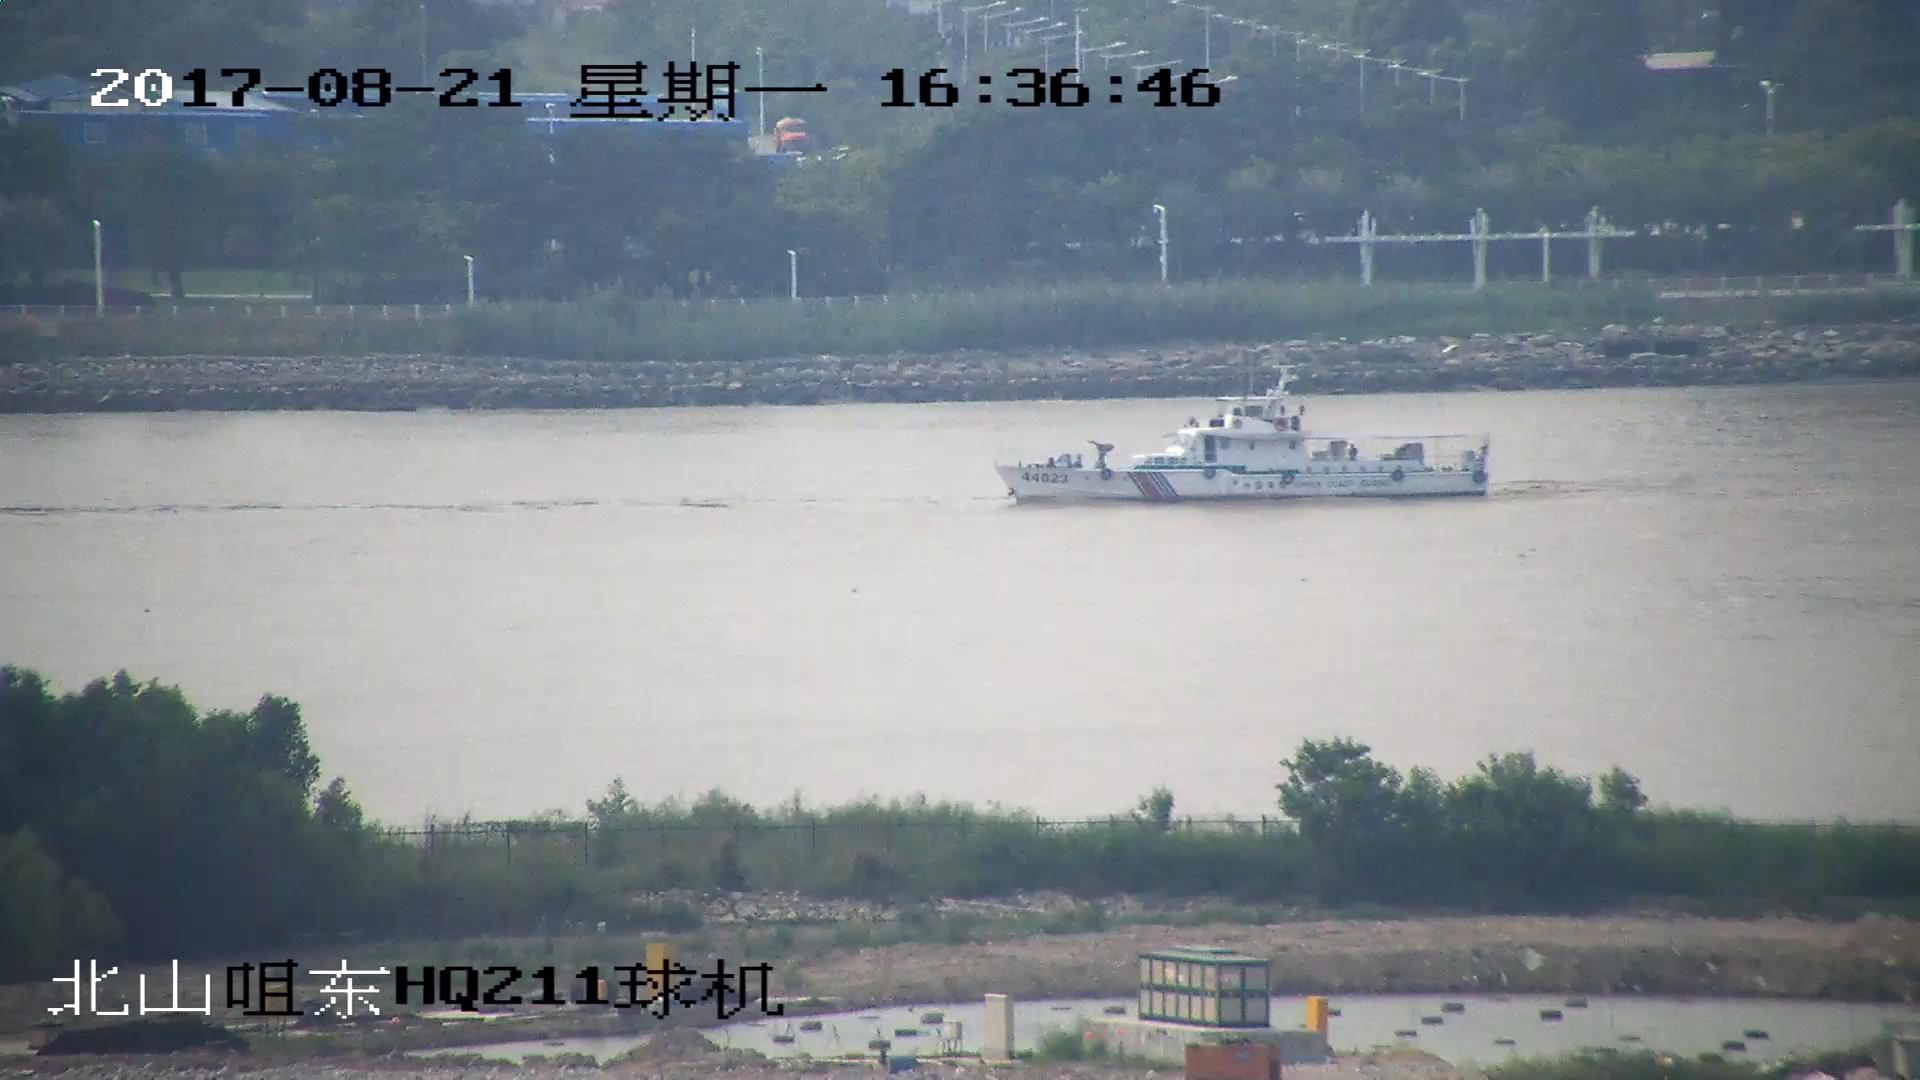passenger ship: (994, 371, 1494, 505)
